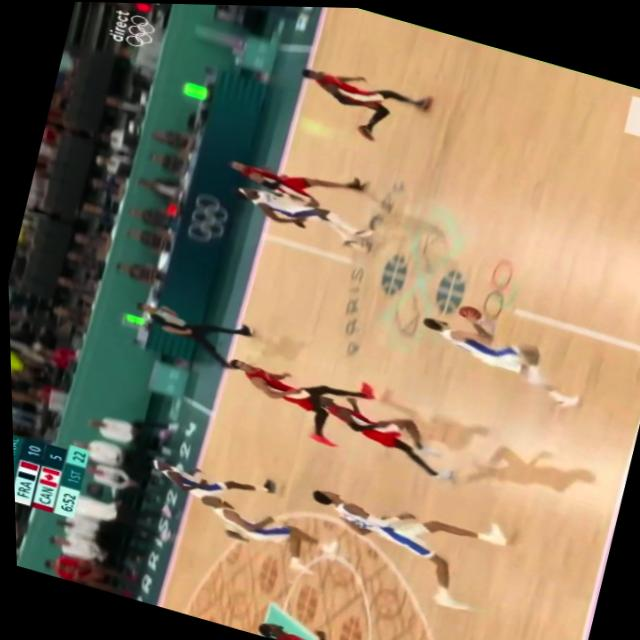ball_handler: (409, 290, 582, 389)
